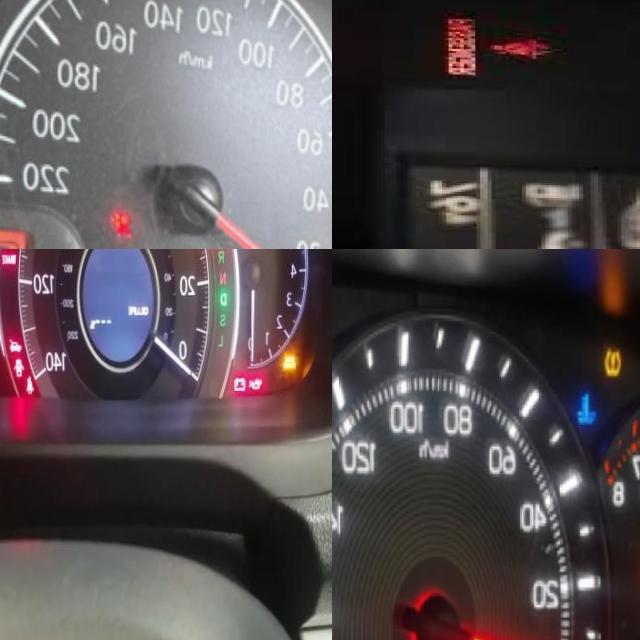Engine cooling system: (572, 384, 599, 430)
Seat Belt: (490, 34, 553, 60)
